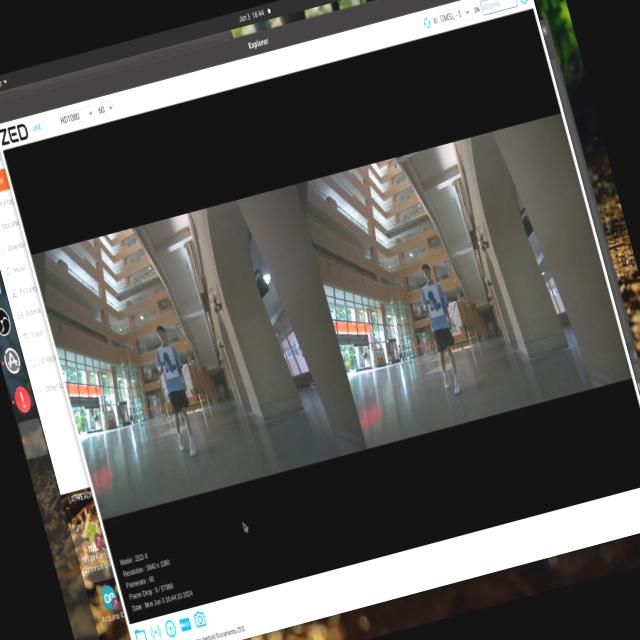blue: (158, 344, 180, 378), (424, 287, 444, 312)
